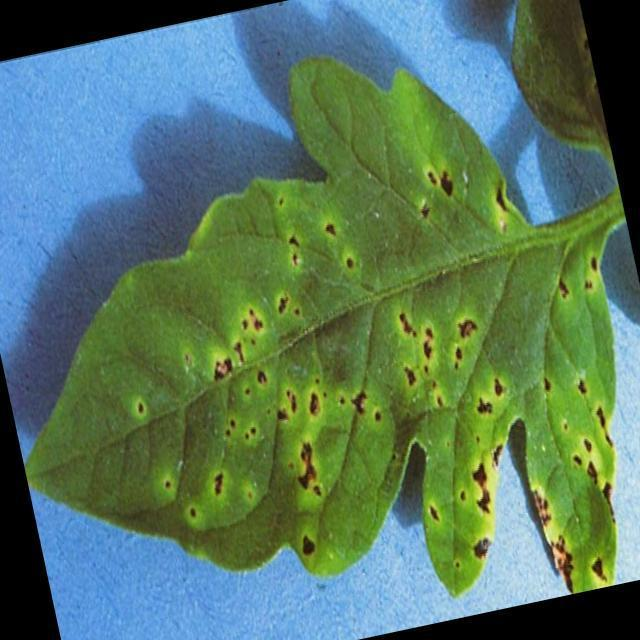Bacterial Spot: (95, 131, 640, 640)
